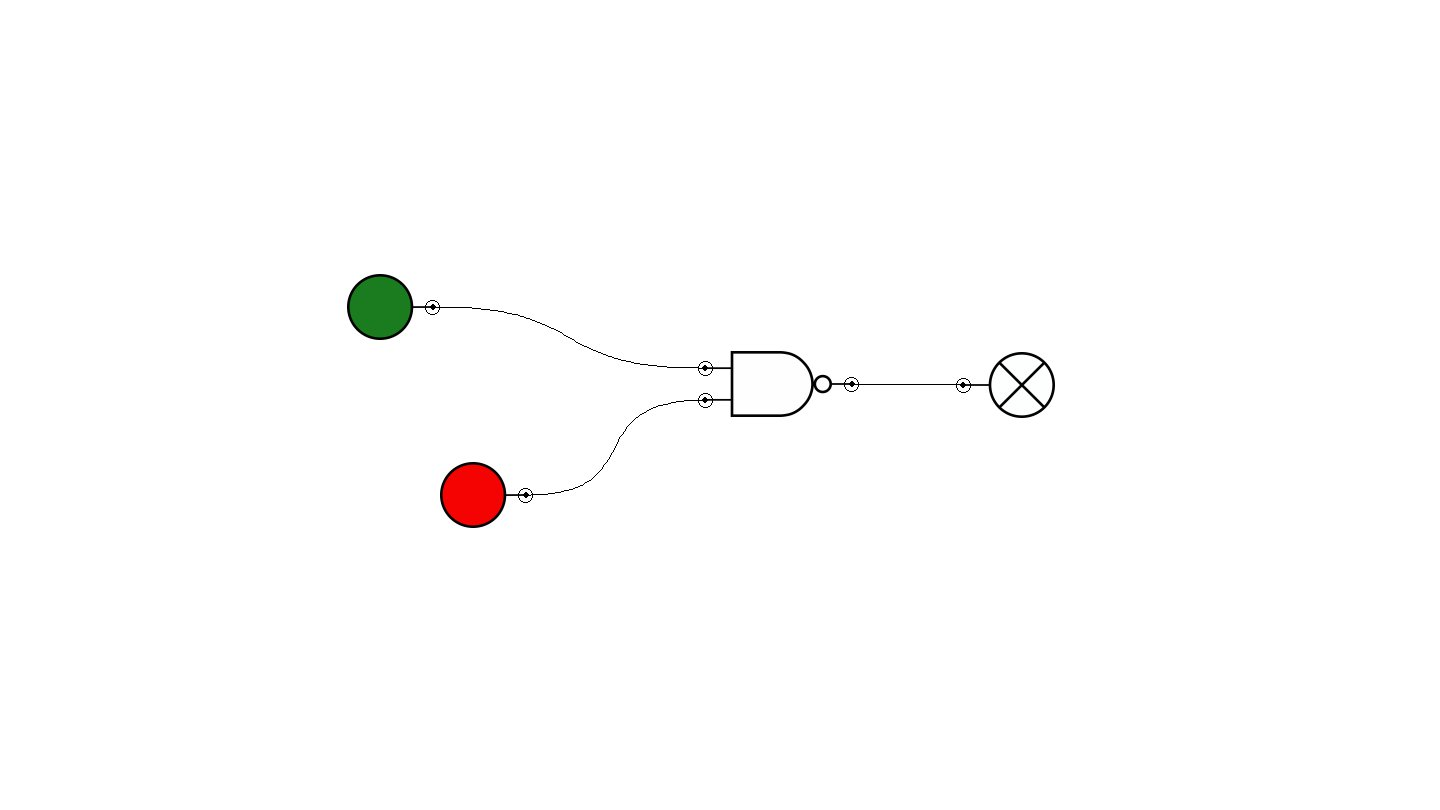bulb: (956, 352, 1055, 418)
nand: (698, 351, 859, 417)
switch_False: (440, 462, 533, 528)
switch_True: (347, 274, 440, 340)
